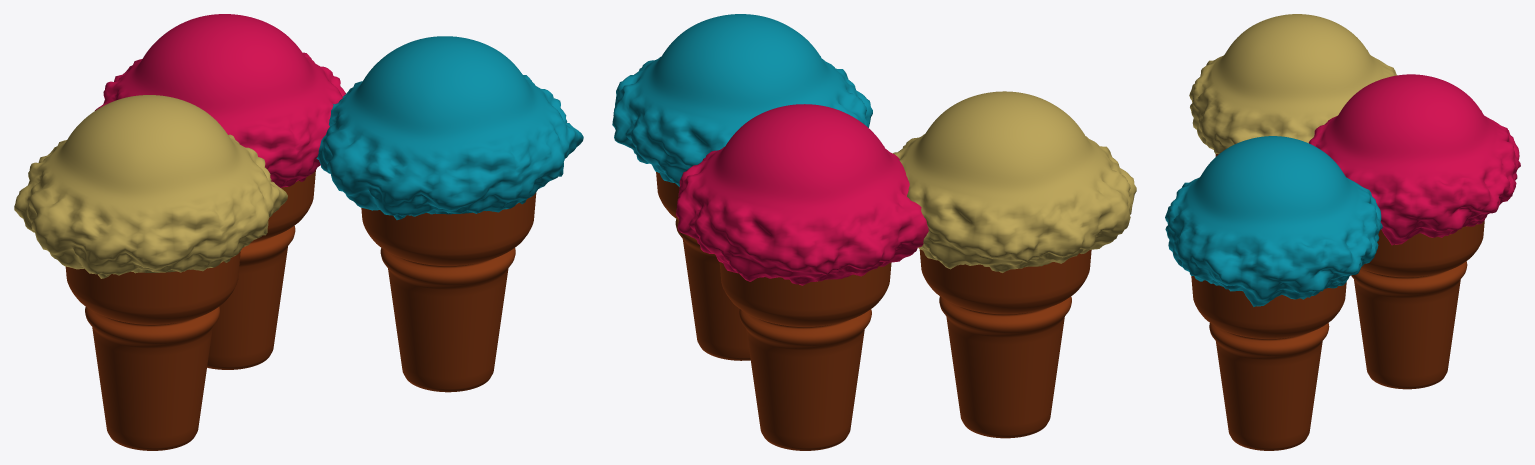
Rendered from 3icecream.obj.
The picture shows the model from 3 angles, left to right: view 1: azimuth 30°, elevation 25°; view 2: azimuth 150°, elevation 25°; view 3: azimuth 270°, elevation 25°; orthographic projection. The views are drawn at different scales.
Visible parts, largest first — view 1: Cube.002_Cube.003, Cube.001_Cube.002, Cube_Cube.001, Cylinder.001, Cylinder.002, Cylinder; view 2: Cube_Cube.001, Cube.002_Cube.003, Cube.001_Cube.002, Cylinder.002, Cylinder, Cylinder.001; view 3: Cube.001_Cube.002, Cube_Cube.001, Cube.002_Cube.003, Cylinder.001, Cylinder.
Boxes of the visible parts, x1,y1,x2,y2 form: Cube.002_Cube.003: (14, 95, 287, 278); Cube.001_Cube.002: (316, 36, 583, 219); Cube_Cube.001: (95, 14, 345, 188); Cylinder.001: (361, 192, 536, 392); Cylinder.002: (65, 251, 240, 450); Cylinder: (207, 170, 315, 369); Cube_Cube.001: (676, 104, 928, 285); Cube.002_Cube.003: (893, 91, 1136, 272); Cube.001_Cube.002: (612, 14, 872, 186); Cylinder.002: (919, 249, 1091, 438); Cylinder: (719, 262, 891, 450); Cylinder.001: (656, 172, 750, 360); Cube.001_Cube.002: (1165, 136, 1382, 306); Cube_Cube.001: (1308, 74, 1520, 245); Cube.002_Cube.003: (1189, 14, 1397, 153); Cylinder.001: (1191, 276, 1346, 450); Cylinder: (1351, 221, 1484, 389).
Size of the model in its own units: 8.12 by 4.95 by 5.49.
